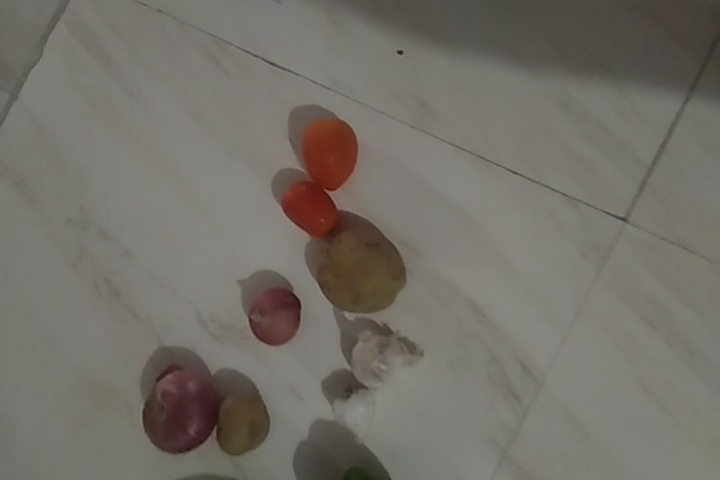onion: (140, 368, 211, 453), (250, 287, 297, 344)
potato: (311, 237, 406, 308), (209, 385, 270, 458)
tomato: (300, 121, 355, 190), (279, 179, 339, 240)
